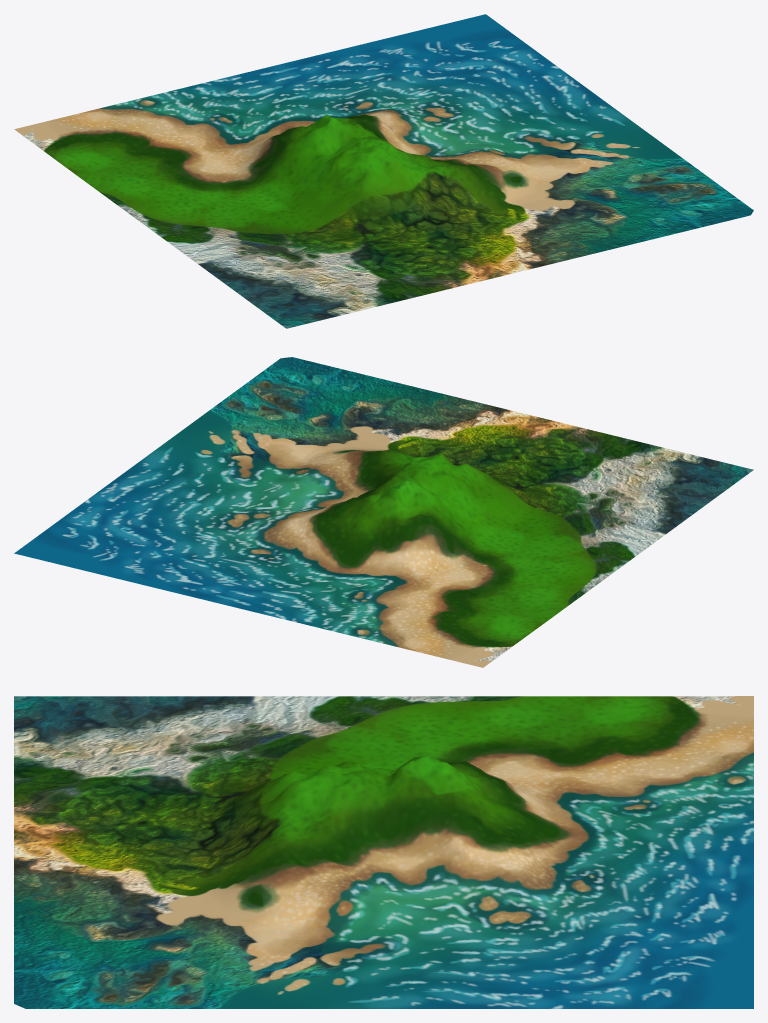
Rendered from island.fbx.
3 renders of one model, top to bottom at view 1: azimuth 30°, elevation 25°; view 2: azimuth 150°, elevation 25°; view 3: azimuth 270°, elevation 25°, orthographic. The views are drawn at different scales.
Visible parts, largest first — view 1: Mountain_3; view 2: Mountain_3; view 3: Mountain_3.
Boxes of the visible parts, x1,y1,x2,y2 form: Mountain_3: [14, 14, 753, 328]; Mountain_3: [14, 357, 753, 667]; Mountain_3: [14, 696, 753, 1008].
Size of the model in its own units: 39.95 by 39.95 by 4.2.
